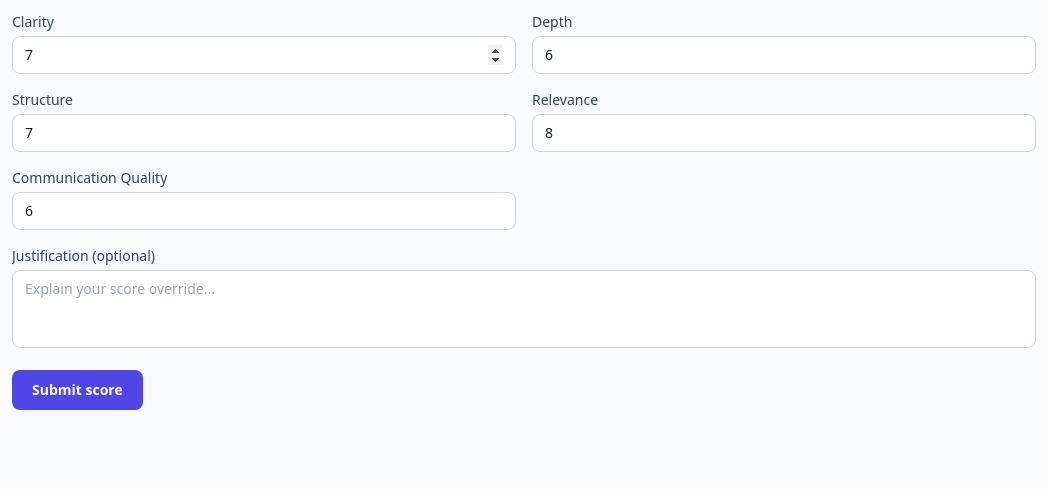
CoachScoreForm › shows error message when submission fails
What coordinates should you click on to do the following:
click the button "Submit score"
I would click on:
 (77, 390)
Its box is [12, 370, 143, 410].
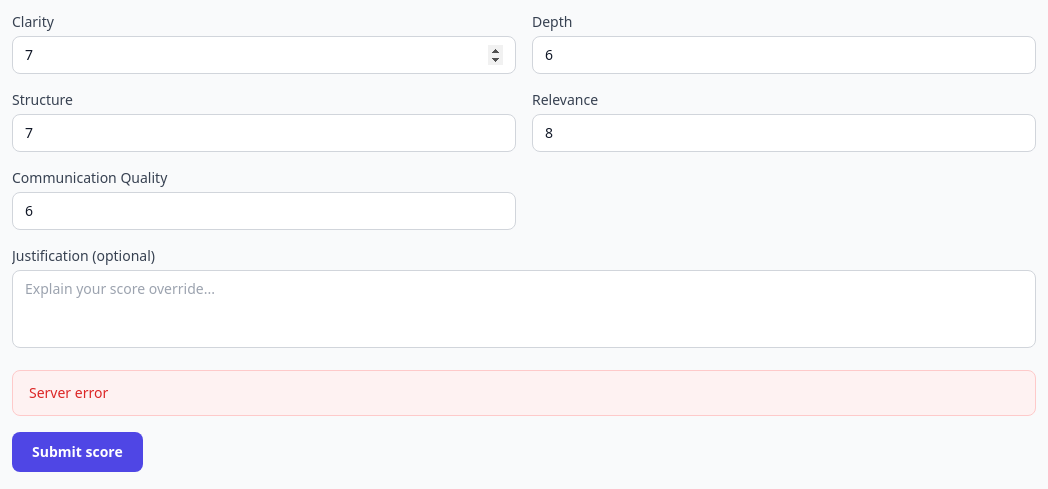
Check: the text "Server error" is shown, box [12, 370, 1036, 416]
